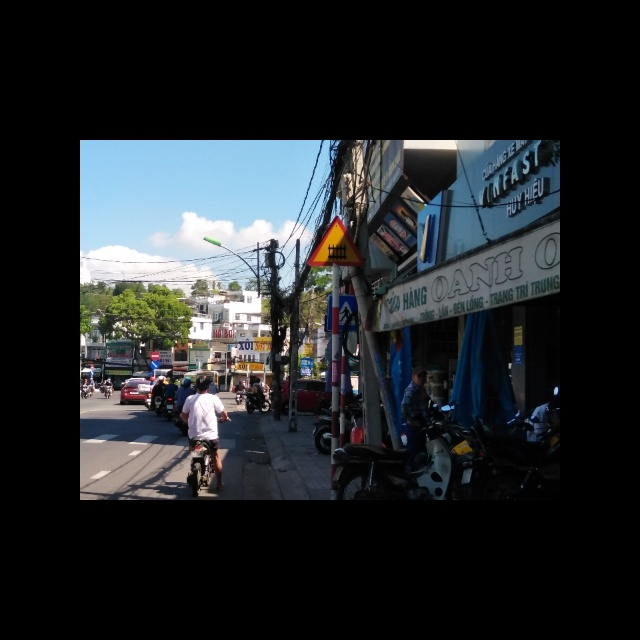Giao nhau với đường sắt có rào chắn: (305, 213, 367, 265)
